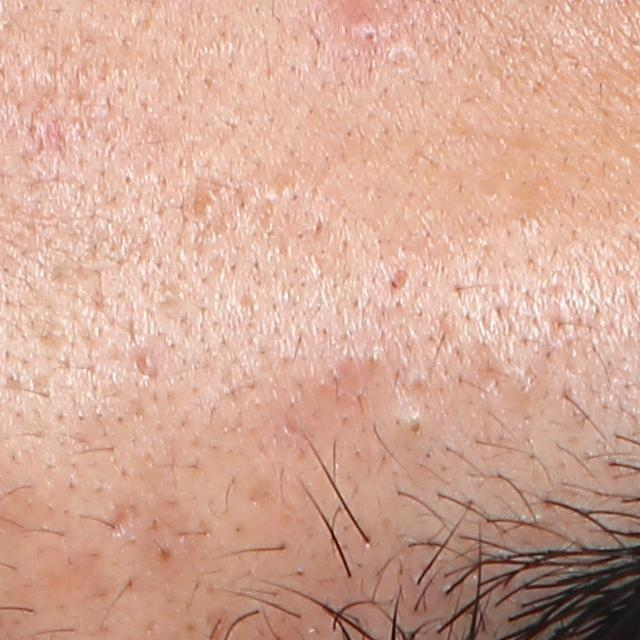atrophic_scar: (107, 502, 136, 540)
comedo: (395, 396, 446, 439), (196, 194, 218, 219), (362, 25, 381, 44)
